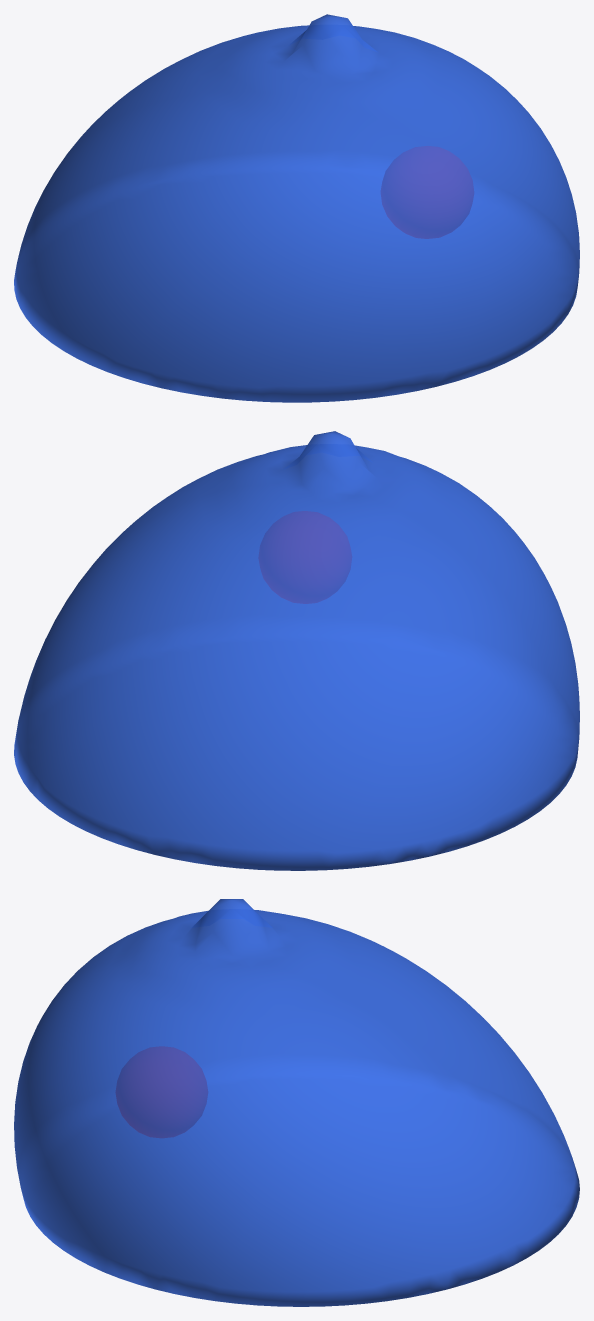
3 views of the same model, one above another, from view 1: azimuth 30°, elevation 25°; view 2: azimuth 150°, elevation 25°; view 3: azimuth 270°, elevation 25° (orthographic).
Size of the model in its own units: 2.07 by 1.18 by 2.1.
Materials: 1 (1 with a texture image).
